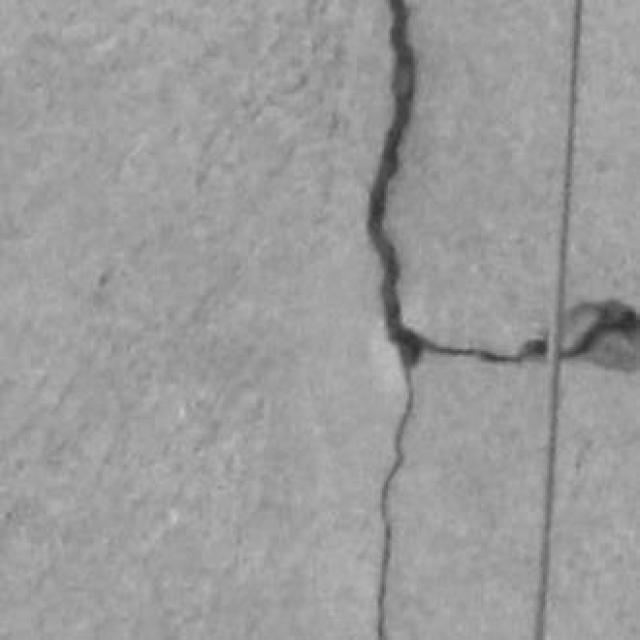crack: (367, 0, 548, 639), (417, 336, 548, 362)
